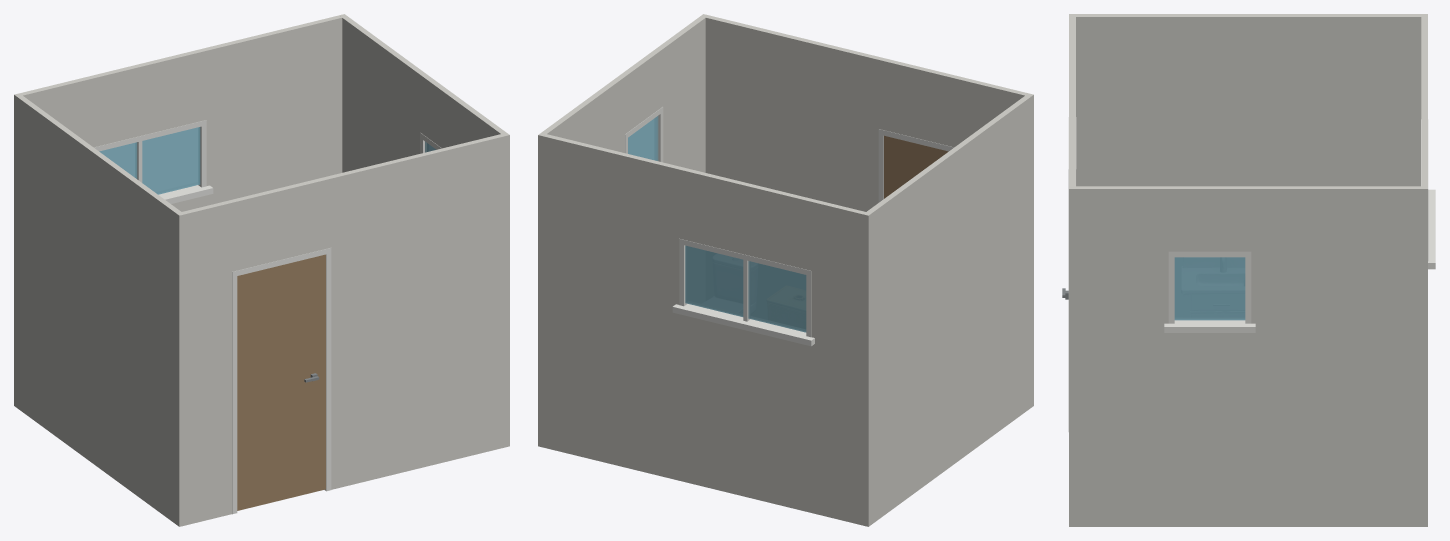
The model's file is scenesmith.glb.
The picture shows the model from 3 angles, left to right: view 1: azimuth 30°, elevation 25°; view 2: azimuth 150°, elevation 25°; view 3: azimuth 270°, elevation 25°; orthographic projection. The views are drawn at different scales.
Parts seen in each view (by area): view 1: scene_086_bathroom_south_wall, scene_086_bathroom_west_wall, scene_086_bathroom_north_wall, scene_086_bathroom_south_wall Door 0 | wood leaf, scene_086_bathroom_east_wall, scene_086_bathroom_north_wall Window 0 | glazing, scene_086_bathroom_south_wall Door 0 | jamb, scene_086_bathroom_north_wall Window 0 | jamb; view 2: scene_086_bathroom_north_wall, scene_086_bathroom_west_wall, scene_086_bathroom_south_wall, scene_086_bathroom_east_wall, scene_086_bathroom_north_wall Window 0 | glazing, scene_086_bathroom_north_wall Window 0 | jamb, scene_086_bathroom_south_wall Door 0 | wood leaf, scene_086_bathroom_east_wall Window 0 | glazing, scene_086_bathroom_south_wall Door 0 | jamb, scene_086_bathroom_east_wall Window 0 | jamb; view 3: scene_086_bathroom_east_wall, scene_086_bathroom_west_wall, scene_086_bathroom_east_wall Window 0 | glazing, scene_086_bathroom_south_wall, scene_086_bathroom_north_wall, scene_086_bathroom_east_wall Window 0 | jamb, scene_086_bathroom_north_wall Window 0 | jamb.
Part boxes in pixels (x1,y1,x2,y2): scene_086_bathroom_south_wall: (176, 132, 509, 526); scene_086_bathroom_west_wall: (14, 93, 181, 526); scene_086_bathroom_north_wall: (14, 15, 342, 407); scene_086_bathroom_south_wall Door 0 | wood leaf: (237, 254, 325, 510); scene_086_bathroom_east_wall: (339, 14, 506, 172); scene_086_bathroom_north_wall Window 0 | glazing: (99, 127, 200, 194); scene_086_bathroom_south_wall Door 0 | jamb: (232, 248, 331, 514); scene_086_bathroom_north_wall Window 0 | jamb: (94, 120, 213, 203); scene_086_bathroom_north_wall: (543, 134, 871, 526); scene_086_bathroom_west_wall: (863, 95, 1033, 526); scene_086_bathroom_south_wall: (700, 14, 1033, 211); scene_086_bathroom_east_wall: (538, 16, 705, 447); scene_086_bathroom_north_wall Window 0 | glazing: (685, 245, 806, 332); scene_086_bathroom_north_wall Window 0 | jamb: (672, 238, 814, 346); scene_086_bathroom_south_wall Door 0 | wood leaf: (884, 135, 948, 198); scene_086_bathroom_east_wall Window 0 | glazing: (628, 116, 658, 160); scene_086_bathroom_south_wall Door 0 | jamb: (878, 129, 953, 202); scene_086_bathroom_east_wall Window 0 | jamb: (625, 107, 663, 162); scene_086_bathroom_east_wall: (1076, 186, 1427, 526); scene_086_bathroom_west_wall: (1076, 14, 1427, 186); scene_086_bathroom_east_wall Window 0 | glazing: (1174, 257, 1245, 320); scene_086_bathroom_south_wall: (1069, 14, 1075, 526); scene_086_bathroom_north_wall: (1421, 17, 1427, 526); scene_086_bathroom_east_wall Window 0 | jamb: (1164, 251, 1255, 332); scene_086_bathroom_north_wall Window 0 | jamb: (1421, 119, 1435, 269).
Bounding box in the file's own units: 3.06 × 2.71 × 2.7.
